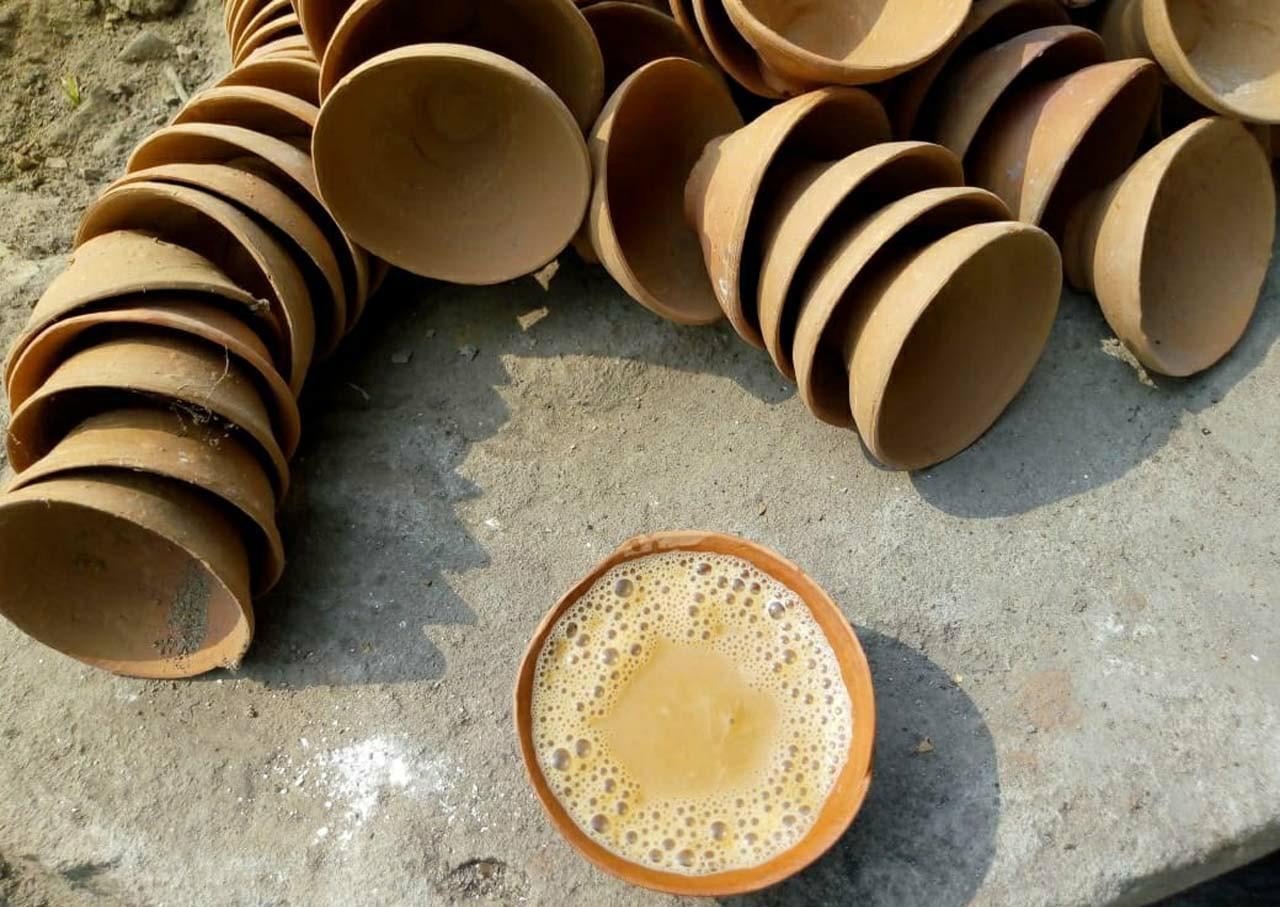Chai: (531, 549, 850, 868)
